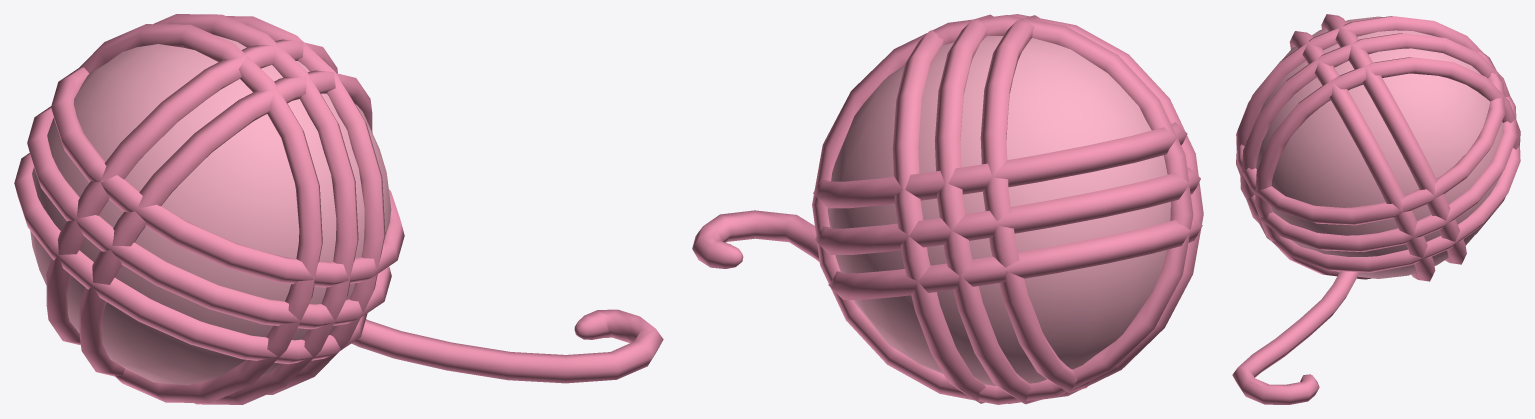
File: yarn.glb
3 views of the same model, side by side, from view 1: azimuth 30°, elevation 25°; view 2: azimuth 150°, elevation 25°; view 3: azimuth 270°, elevation 25° (orthographic). The views are drawn at different scales.
Visible parts, largest first — view 1: yarn_ball, yarn_tail; view 2: yarn_ball, yarn_tail; view 3: yarn_ball, yarn_tail.
Boxes of the visible parts, x1,y1,x2,y2 form: yarn_ball: (14,14,404,404); yarn_tail: (351,309,663,383); yarn_ball: (812,14,1203,404); yarn_tail: (692,210,819,268); yarn_ball: (1236,14,1520,281); yarn_tail: (1232,271,1359,404).
Bounding box in the file's own units: 0.2286 × 0.1426 × 0.1445.
